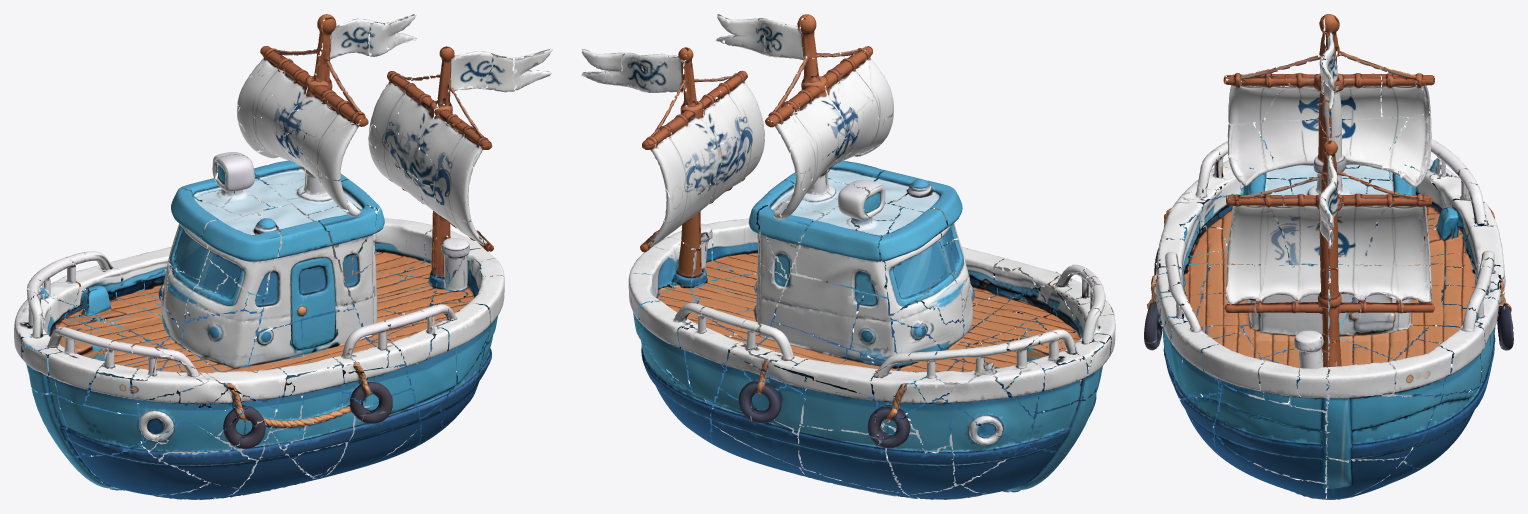
File: azure_sailor_tug_hq.glb
3 renders of one model, left to right at view 1: azimuth 30°, elevation 25°; view 2: azimuth 150°, elevation 25°; view 3: azimuth 270°, elevation 25°, orthographic. The views are drawn at different scales.
Visible parts, largest first — view 1: mesh_node; view 2: mesh_node; view 3: mesh_node.
Boxes of the visible parts, x1,y1,x2,y2 form: mesh_node: (14, 14, 552, 499); mesh_node: (581, 14, 1115, 499); mesh_node: (1144, 14, 1513, 499).
Size of the model in its own units: 1.89 by 1.47 by 1.11.
1 material, 1 textured.
